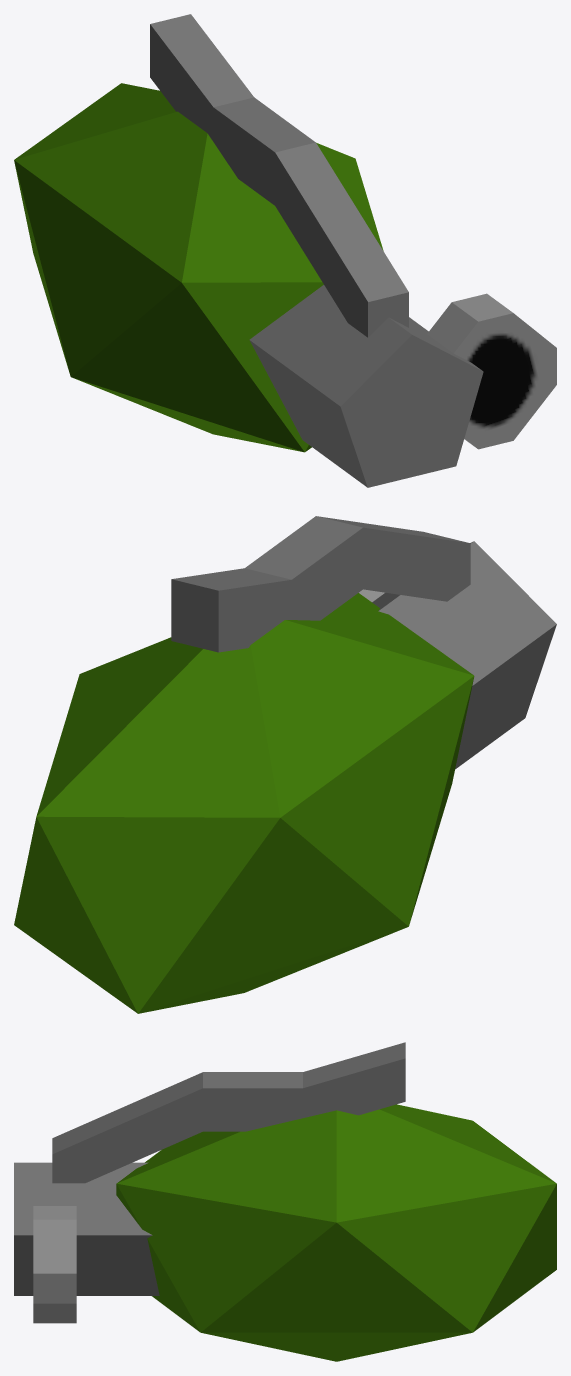
Rendered from granada.glb.
3 views of the same model, one above another, from view 1: azimuth 30°, elevation 25°; view 2: azimuth 150°, elevation 25°; view 3: azimuth 270°, elevation 25° (orthographic). The views are drawn at different scales.
Parts seen in each view (by area): view 1: Icosphere, Cylinder, Cube.001, Cube; view 2: Icosphere, Cube.001, Cylinder; view 3: Icosphere, Cube.001, Cylinder, Cube.
Boxes of the visible parts, x1,y1,x2,y2 form: Icosphere: (14,83,383,452); Cylinder: (249,285,483,487); Cube.001: (150,14,408,337); Cube: (427,293,556,449); Icosphere: (14,593,474,1013); Cube.001: (171,516,470,652); Cylinder: (372,541,556,769); Icosphere: (116,1104,556,1361); Cube.001: (52,1042,405,1183); Cylinder: (14,1162,159,1295); Cube: (33,1206,76,1323).
Bounding box in the file's own units: 1.88 × 2.31 × 3.64.
Materials: 3 (1 with a texture image).
